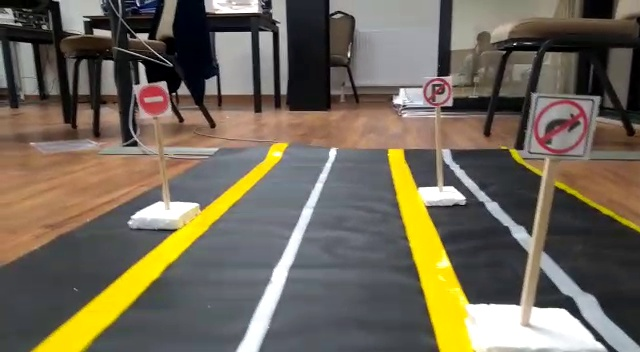girisi_olmayan_yol: (136, 82, 174, 118)
park_yapilmaz: (424, 76, 455, 107)
saga_donulmez: (534, 96, 592, 156)
